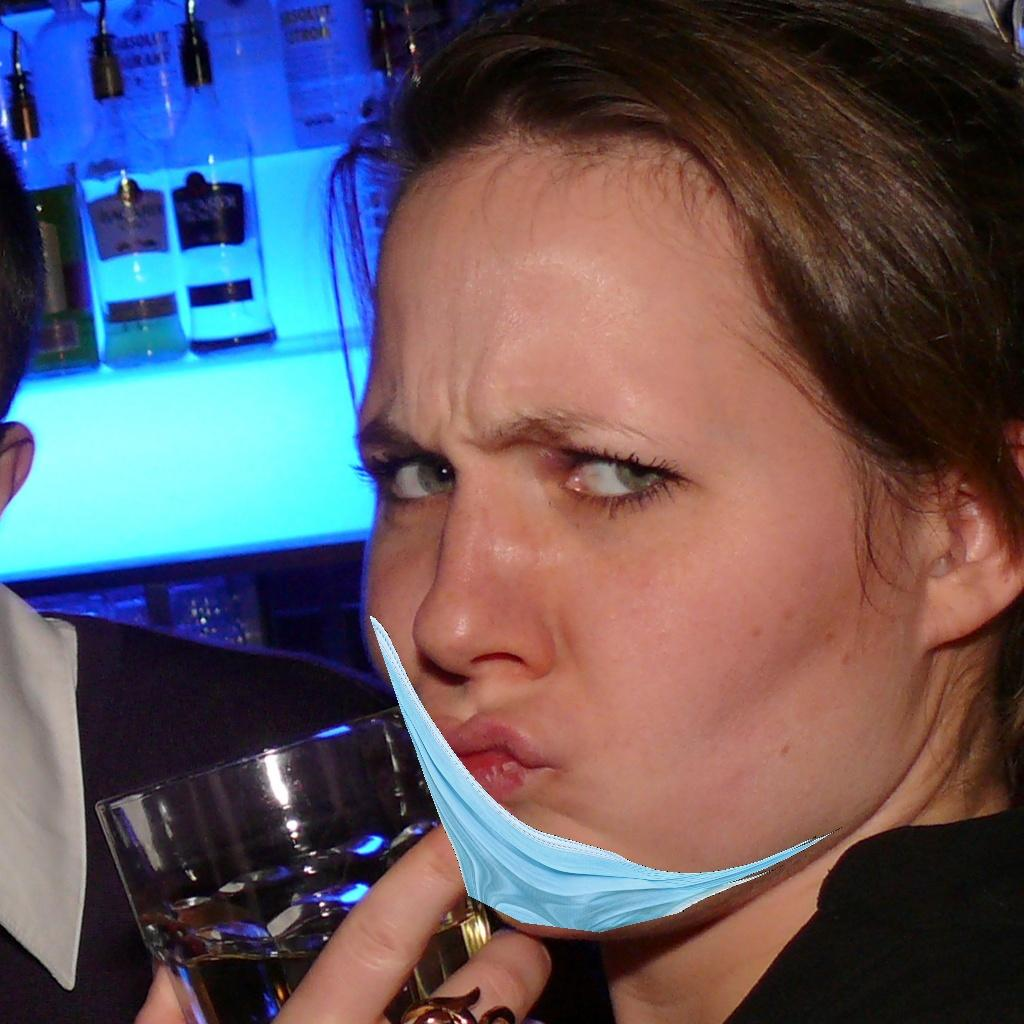Máscara Incorreta: (343, 312, 856, 936)
